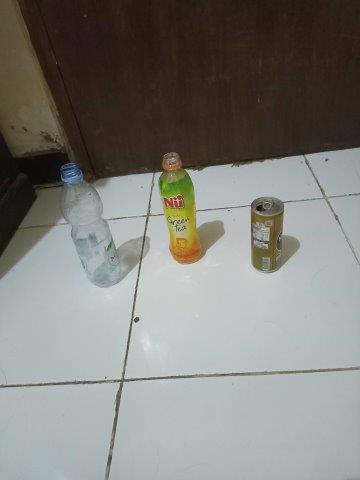botolplastik: (59, 161, 121, 288), (159, 152, 203, 265)
kaleng: (250, 196, 284, 273)
